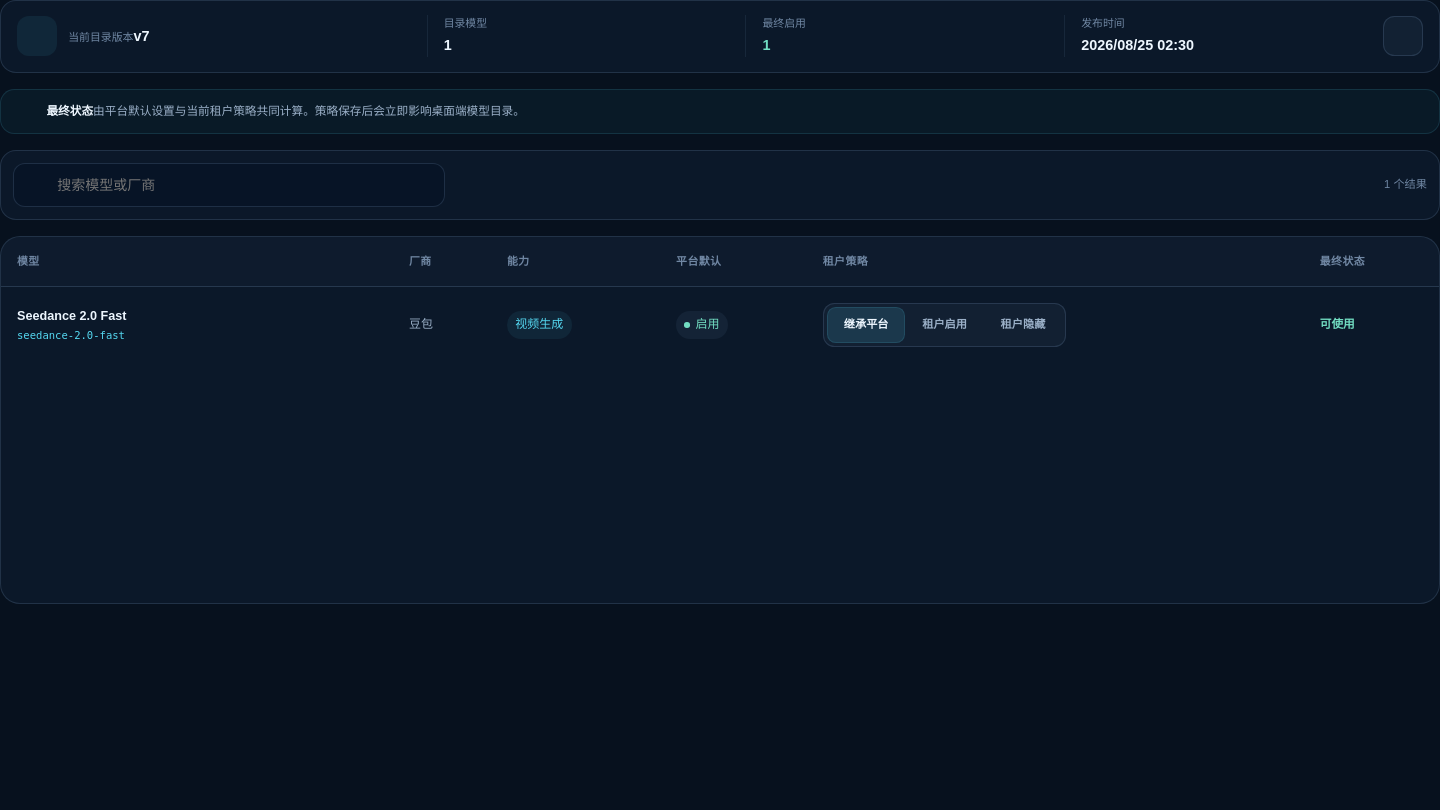
TenantModelPolicyPanel › sends null rowVersion for the first write and never sends tenantId
Click the button "租户启用": (945,325) [905,307,984,343]
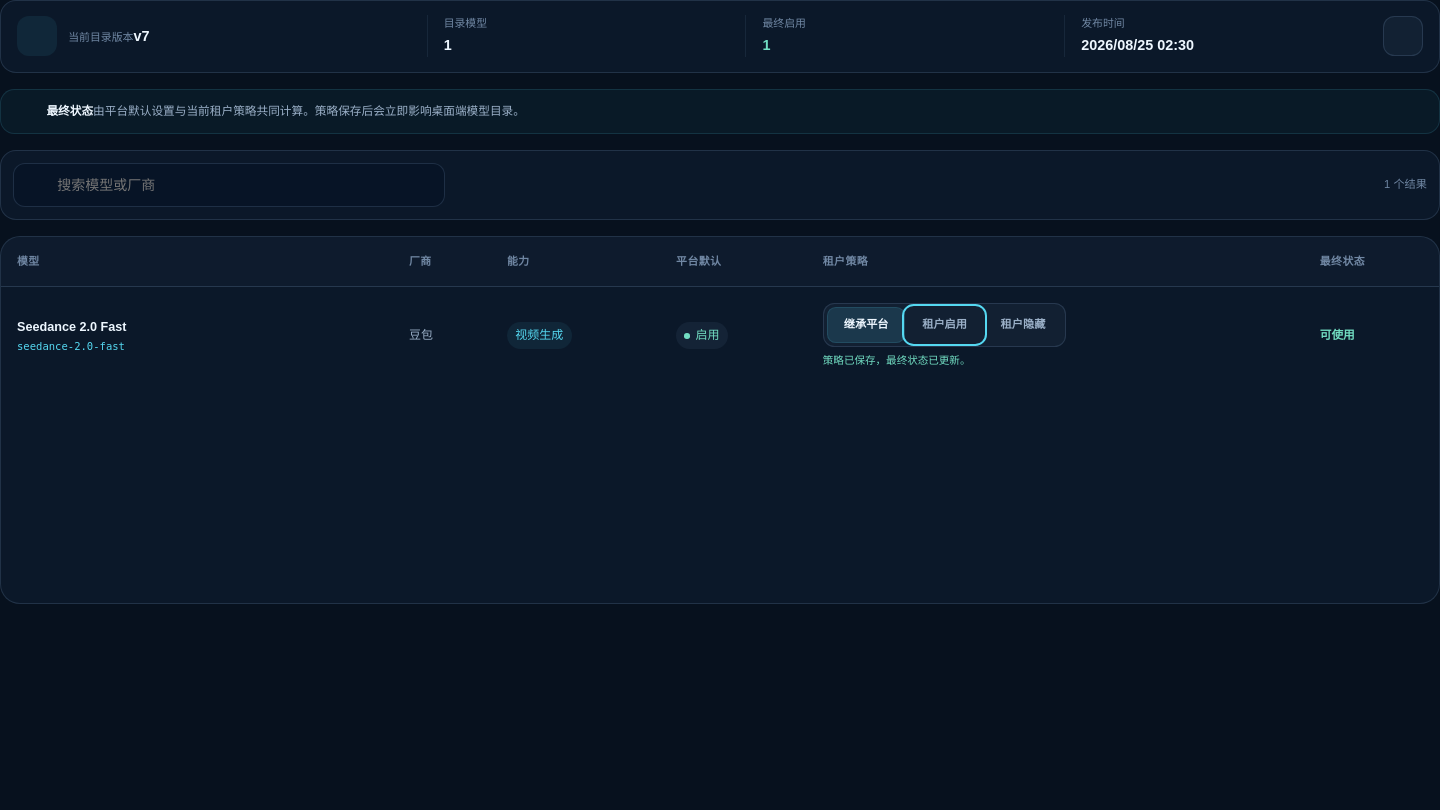
Result: the text "策略已保存，最终状态已更新。" is shown at [823,354,970,366]
